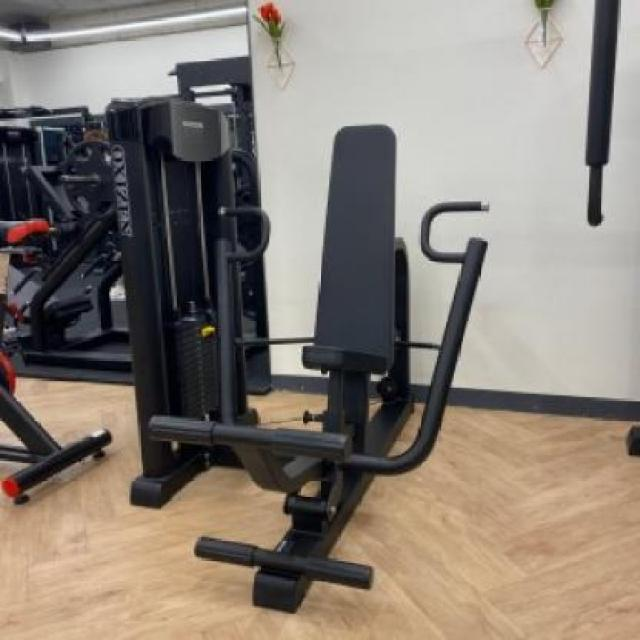Chest Press machine: (83, 57, 515, 621)
